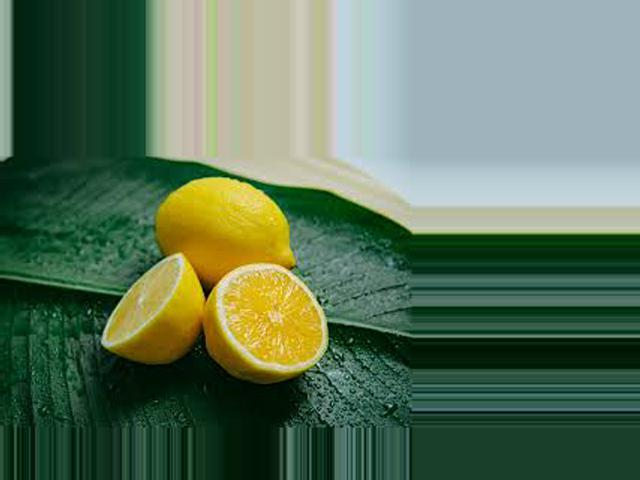lemon: (152, 177, 315, 291)
